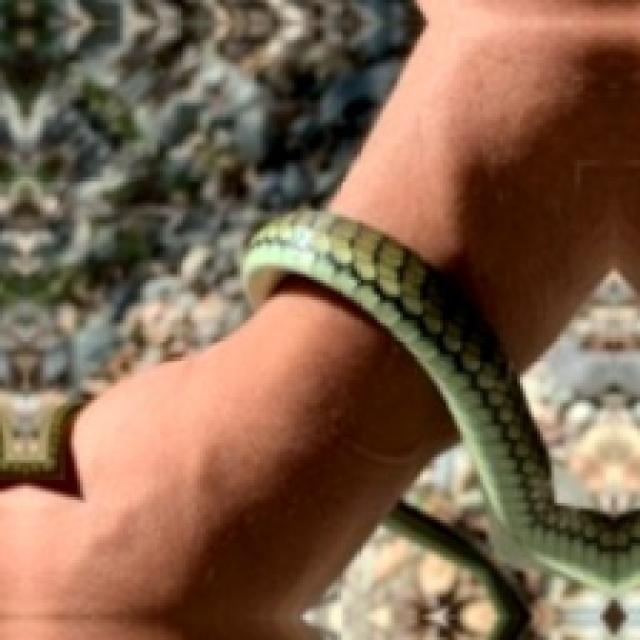philippine bronzeback treesnake: (243, 209, 637, 591)
